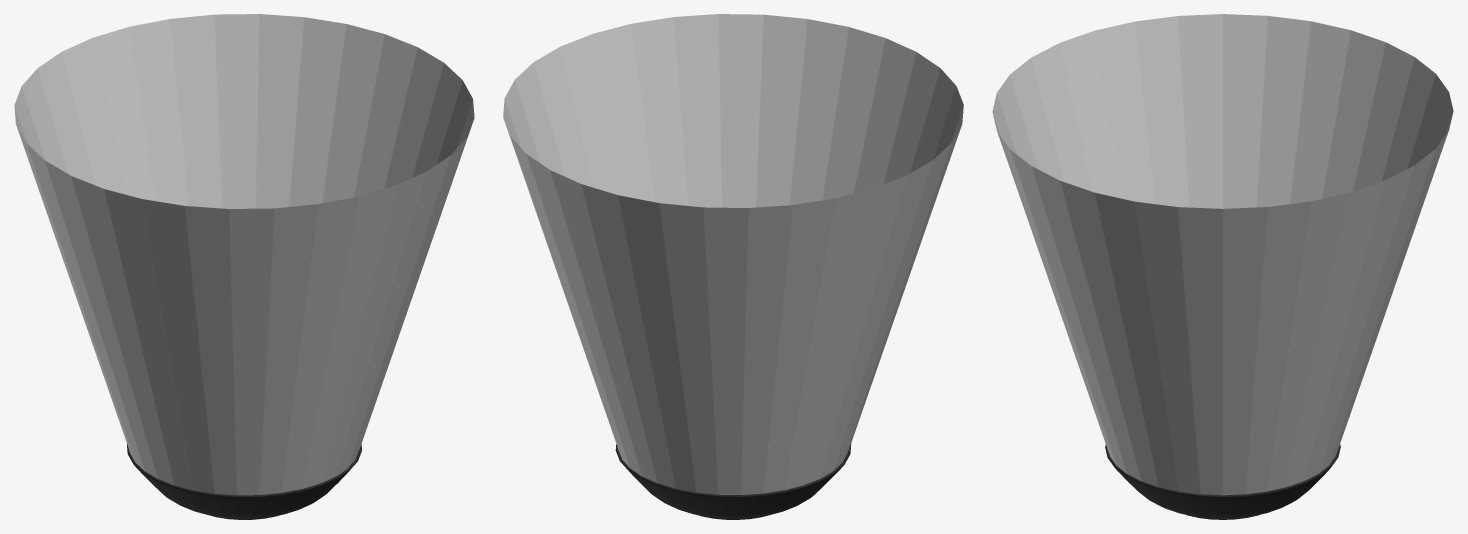
Rendered from __6012-02-PlateMedium.obj.
The picture shows the model from 3 angles, left to right: view 1: azimuth 30°, elevation 25°; view 2: azimuth 150°, elevation 25°; view 3: azimuth 270°, elevation 25°; orthographic projection.
Visible parts, largest first — view 1: Vert.012; view 2: Vert.012; view 3: Vert.012.
Part boxes in pixels (x1,y1,x2,y2): Vert.012: (14,14,474,519); Vert.012: (503,14,963,519); Vert.012: (992,14,1453,519).
Size of the model in its own units: 0.4303 by 0.3948 by 0.4303.
2 materials, 1 textured.
